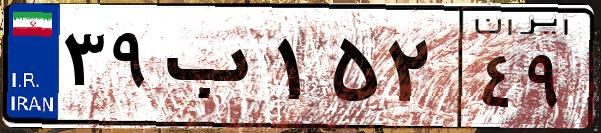1: (270, 28, 330, 110)
2: (385, 28, 445, 110)
3: (57, 26, 110, 100)
4: (475, 38, 525, 113)
5: (330, 28, 385, 110)
9: (525, 38, 570, 115), (110, 28, 158, 98)
ب: (158, 20, 270, 120)
